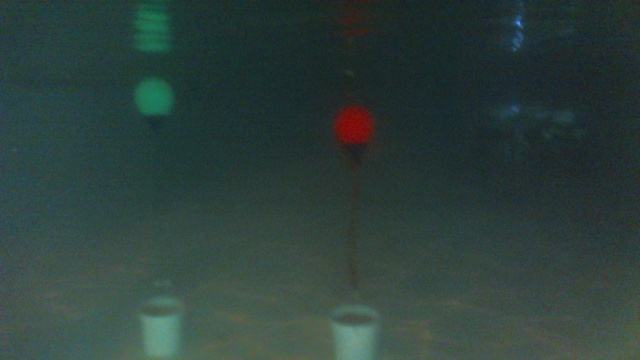buoy_green: (131, 73, 177, 135)
buoy_red: (331, 104, 375, 164)
